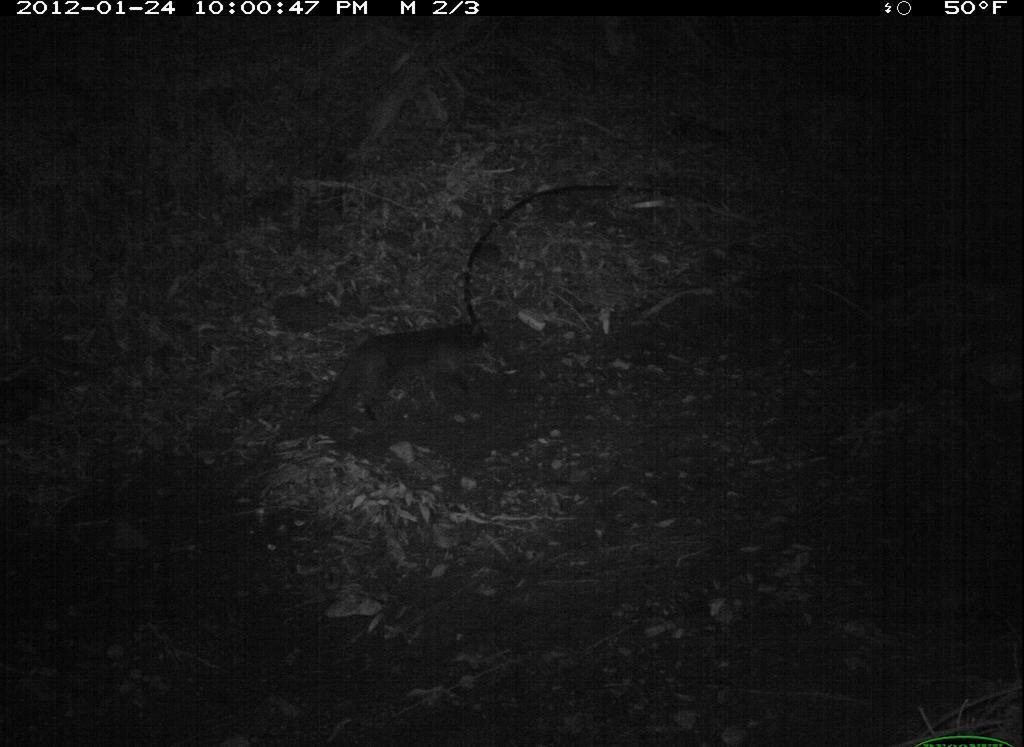opossum: (285, 313, 524, 428)
